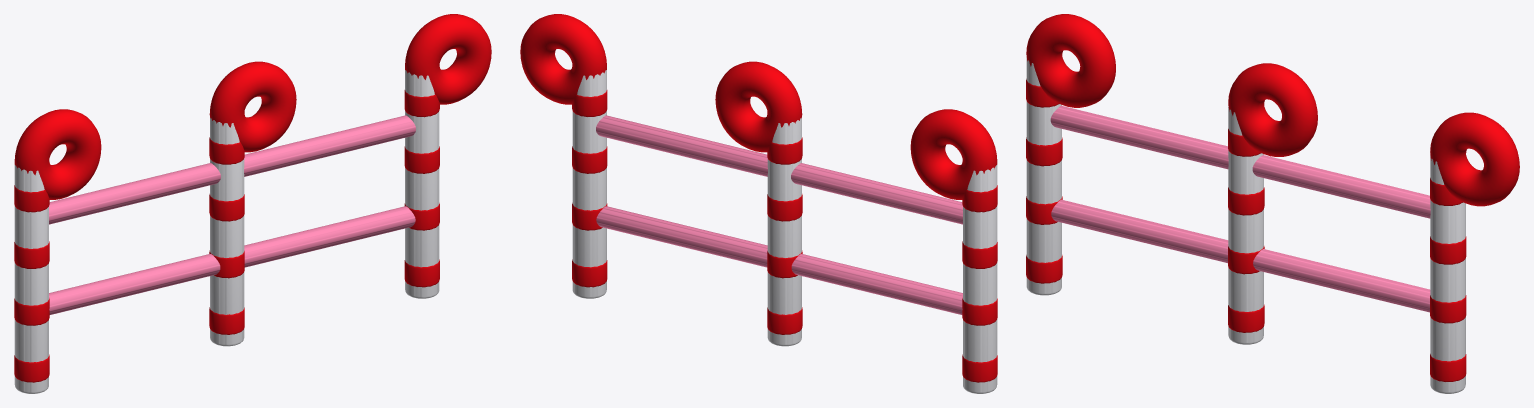
Rendered from CandyFence.glb.
3 renders of one model, left to right at view 1: azimuth 30°, elevation 25°; view 2: azimuth 150°, elevation 25°; view 3: azimuth 330°, elevation 25°, orthographic. The views are drawn at different scales.
Parts seen in each view (by area): view 1: Cylinder.016, Cylinder.015, Torus.001, Torus.002, Torus, Cylinder, Cylinder.005, Cylinder.010, Cylinder.006, Cylinder.013, Cylinder.001, Cylinder.002 (+8 smaller); view 2: Cylinder.016, Cylinder.015, Torus.001, Torus.002, Torus, Cylinder, Cylinder.010, Cylinder.005, Cylinder.006, Cylinder.013, Cylinder.001, Cylinder.011 (+8 smaller); view 3: Cylinder.016, Cylinder.015, Torus.001, Torus, Torus.002, Cylinder.010, Cylinder, Cylinder.005, Cylinder.008, Cylinder.012, Cylinder.001, Cylinder.006 (+8 smaller).
Part boxes in pixels (x1,y1,x2,y2): Cylinder.016: (49, 115, 415, 224); Cylinder.015: (49, 206, 415, 314); Torus.001: (209, 61, 296, 152); Torus.002: (405, 14, 491, 104); Torus: (14, 109, 101, 199); Cylinder: (14, 165, 48, 393); Cylinder.005: (210, 117, 244, 346); Cylinder.010: (405, 70, 439, 298); Cylinder.006: (209, 307, 244, 334); Cylinder.013: (404, 146, 439, 173); Cylinder.001: (14, 354, 49, 382); Cylinder.002: (14, 298, 49, 325); Cylinder.016: (596, 115, 962, 224); Cylinder.015: (596, 206, 962, 314); Torus.001: (715, 61, 802, 152); Torus.002: (520, 14, 606, 104); Torus: (910, 109, 997, 199); Cylinder: (963, 165, 997, 393); Cylinder.010: (572, 70, 606, 298); Cylinder.005: (767, 117, 801, 346); Cylinder.006: (767, 307, 802, 334); Cylinder.013: (572, 146, 607, 173); Cylinder.001: (962, 354, 997, 382); Cylinder.011: (572, 259, 607, 287); Cylinder.016: (1050, 105, 1430, 218); Cylinder.015: (1051, 199, 1430, 312); Torus.001: (1228, 63, 1317, 156); Torus: (1026, 14, 1115, 107); Torus.002: (1430, 112, 1519, 206); Cylinder.010: (1430, 156, 1465, 393); Cylinder: (1026, 58, 1061, 295); Cylinder.005: (1228, 107, 1263, 344); Cylinder.008: (1228, 187, 1264, 215); Cylinder.012: (1430, 295, 1466, 323); Cylinder.001: (1026, 255, 1062, 283); Cylinder.006: (1228, 304, 1264, 332).
Bounding box in the file's own units: 2.18 × 1.19 × 0.1409.
